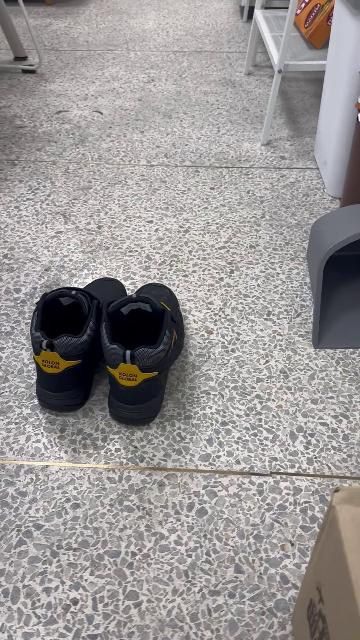shoe_worn: (31, 276, 128, 412), (106, 281, 187, 428)
